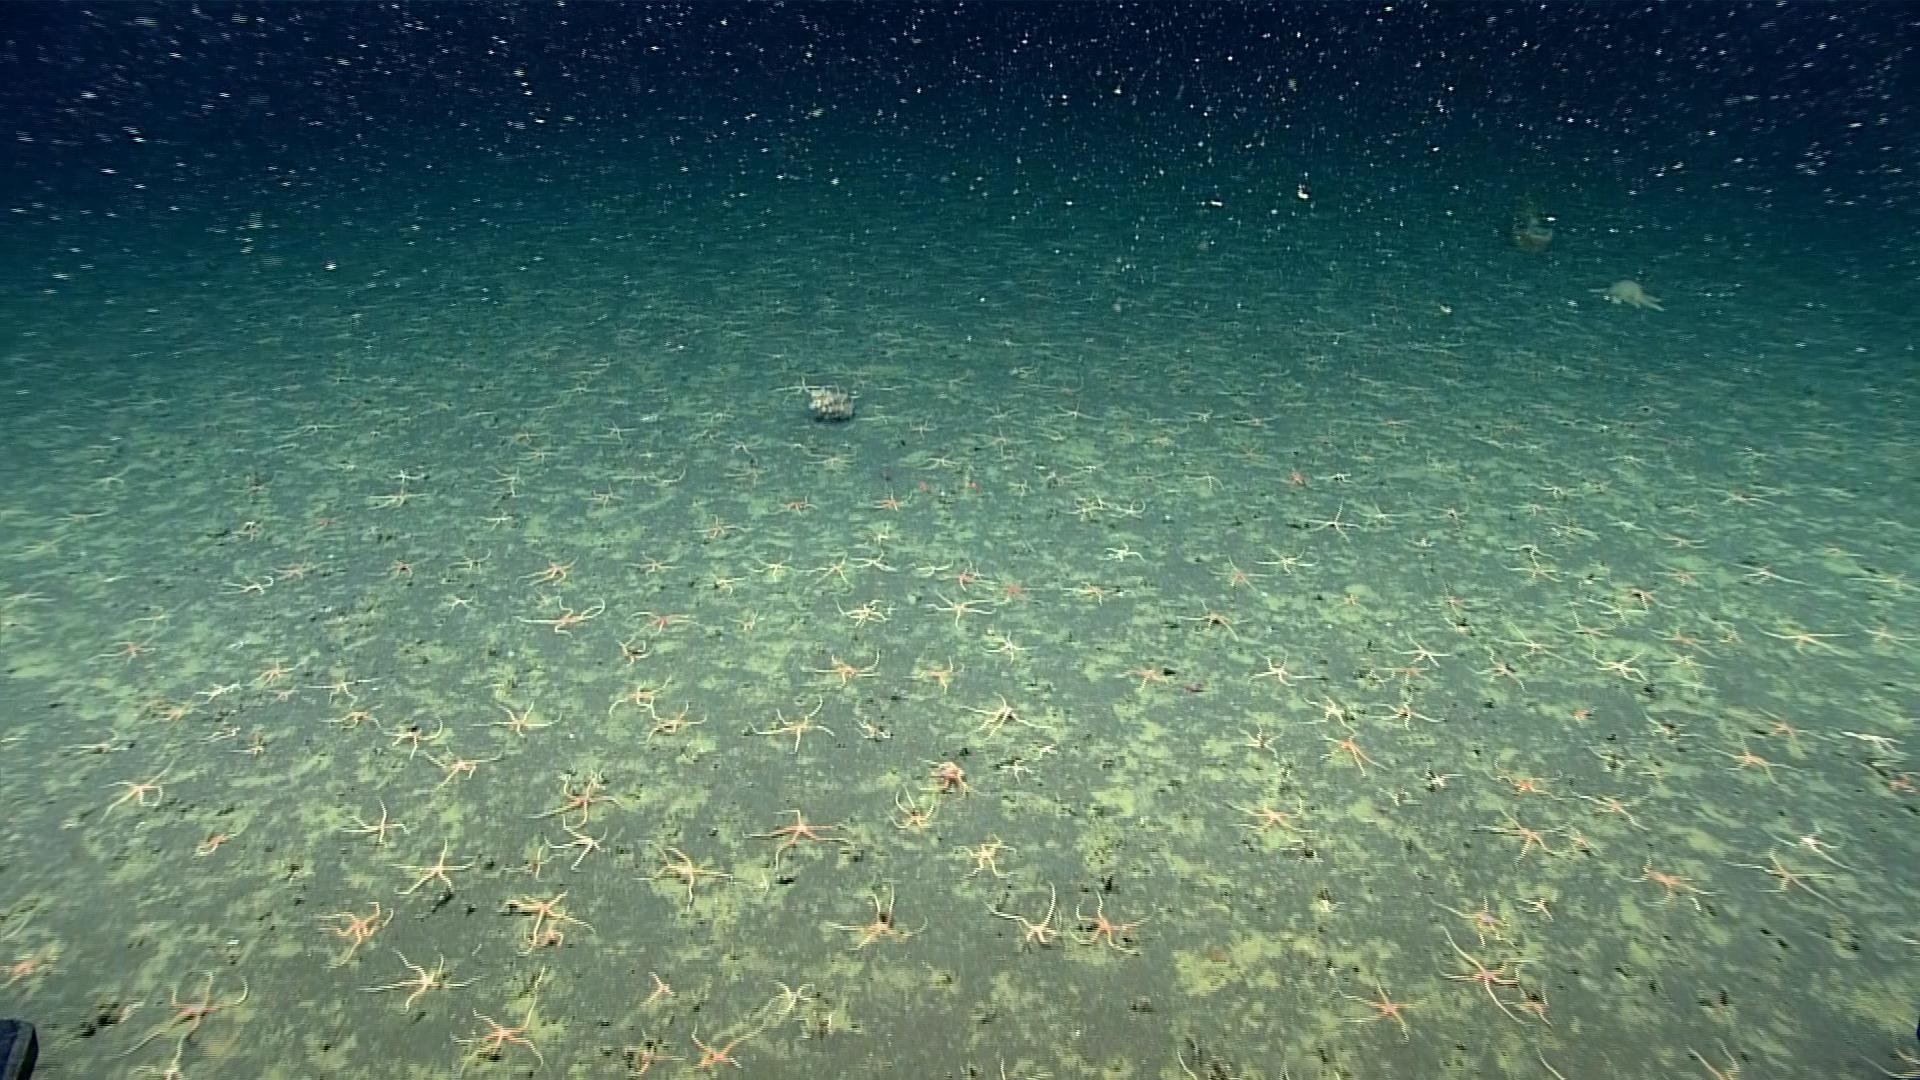brittle_sea_star: (102, 967, 248, 1060), (1432, 924, 1531, 1027), (357, 948, 485, 1021), (820, 887, 934, 959), (447, 993, 547, 1072), (634, 843, 737, 909), (498, 887, 595, 956), (1722, 841, 1829, 901), (309, 899, 394, 973), (745, 804, 849, 865), (1335, 976, 1424, 1042), (984, 880, 1063, 949), (1764, 815, 1858, 873), (1618, 855, 1712, 911), (1067, 889, 1147, 953), (1477, 807, 1572, 861), (388, 841, 480, 897), (508, 589, 611, 638), (526, 771, 618, 825), (1701, 731, 1791, 786), (98, 760, 175, 823), (472, 692, 563, 746), (1433, 894, 1526, 947), (753, 695, 837, 749), (543, 818, 613, 877), (417, 746, 504, 794), (1572, 786, 1658, 833), (1749, 618, 1847, 657), (955, 692, 1038, 737), (1484, 760, 1563, 804), (0, 936, 61, 994), (1365, 692, 1445, 736), (1319, 731, 1387, 779), (343, 798, 406, 851), (1498, 621, 1573, 665), (924, 585, 1009, 624), (603, 675, 673, 721), (952, 832, 1015, 881), (687, 1026, 754, 1071), (641, 702, 709, 745), (1232, 802, 1307, 841), (757, 977, 828, 1018), (1303, 500, 1367, 545), (811, 650, 891, 686), (1179, 603, 1249, 644), (302, 667, 373, 707), (1246, 651, 1319, 688), (384, 715, 447, 756), (1684, 1035, 1743, 1079), (1387, 632, 1457, 669), (1851, 560, 1919, 599), (1502, 549, 1567, 588), (141, 1036, 200, 1079), (1858, 1038, 1919, 1079), (1726, 558, 1804, 589), (189, 820, 247, 862), (318, 700, 389, 735), (886, 786, 939, 832), (1, 700, 69, 736), (622, 608, 700, 638), (1473, 645, 1527, 688), (100, 632, 162, 669), (1596, 653, 1659, 688), (1213, 555, 1271, 593), (363, 481, 429, 514), (1425, 584, 1484, 620), (514, 555, 578, 587), (924, 756, 975, 795), (1563, 613, 1618, 649), (1259, 547, 1321, 579), (1589, 593, 1651, 625), (620, 1039, 673, 1076), (1650, 560, 1716, 589), (1304, 695, 1360, 729), (835, 600, 899, 629), (249, 655, 301, 691), (806, 554, 853, 591), (910, 657, 957, 694), (1116, 665, 1179, 692), (977, 630, 1030, 663), (624, 550, 683, 579), (150, 695, 204, 727), (748, 551, 798, 584), (1656, 649, 1716, 676), (216, 574, 274, 601), (371, 555, 426, 584), (194, 675, 248, 704), (1859, 621, 1912, 650), (484, 462, 529, 495), (196, 716, 243, 746), (223, 737, 276, 764), (452, 549, 502, 576), (690, 516, 745, 541), (615, 633, 653, 666), (439, 589, 484, 617), (1064, 582, 1116, 605), (644, 973, 680, 1006), (852, 550, 898, 576), (582, 484, 629, 509), (1675, 674, 1720, 700), (1552, 521, 1602, 543), (305, 512, 356, 533), (269, 679, 305, 709), (872, 487, 913, 513), (269, 562, 316, 584), (778, 493, 818, 520), (949, 568, 989, 595), (1105, 542, 1146, 567), (1109, 498, 1149, 522), (1428, 502, 1468, 526), (1062, 500, 1102, 522), (1007, 476, 1036, 501), (914, 563, 949, 582)
